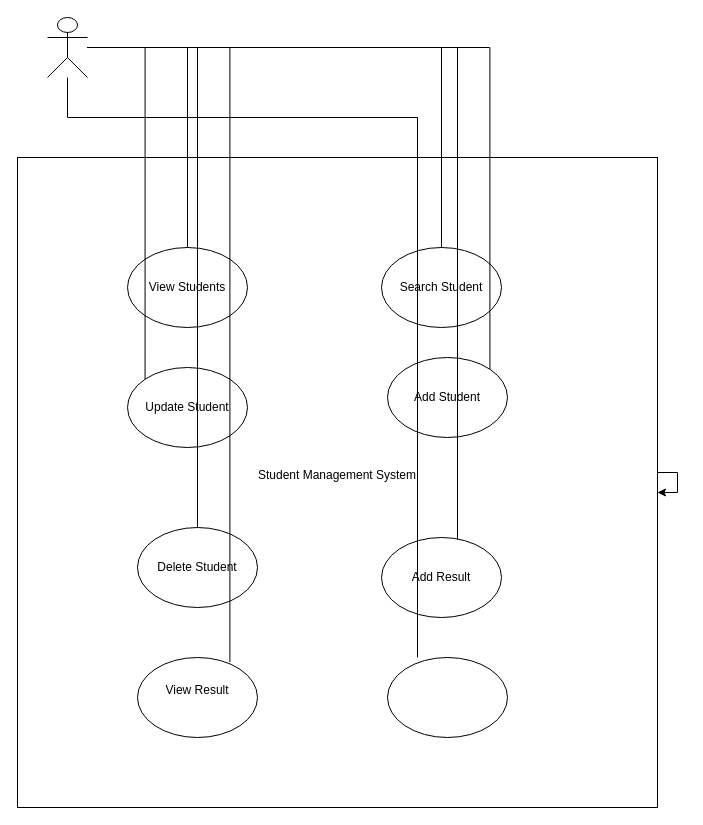
This 703x825 diagram has some shape labels left out. The shapes that lost their labels are listed below. From the top down, each one's box as (x1, y1, x2, y2) in pixels, then its label:
(46, 16, 88, 78): User
(386, 656, 508, 738): Generate Student Report
